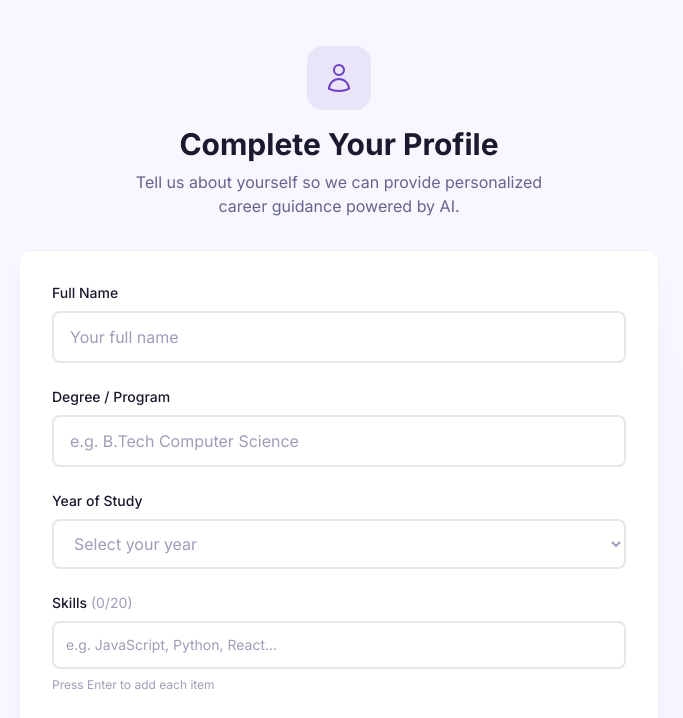
Scenario: ProfileSetup › shows validation errors when submitting empty form
Clear the field labelled "Full Name": (339, 337) 52,311 -> 626,363
(page scrolled)
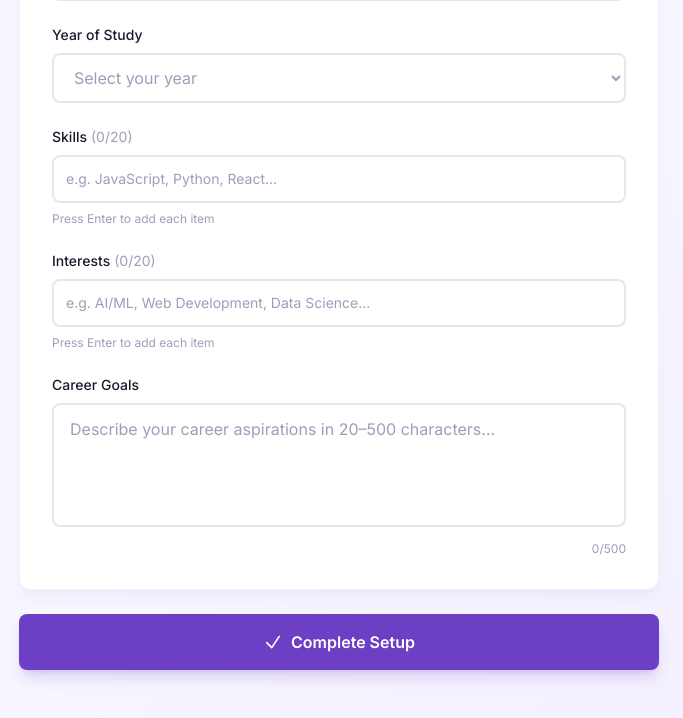
Click the button "Complete Setup": (339, 642) 19,614 -> 659,670
(page scrolled)
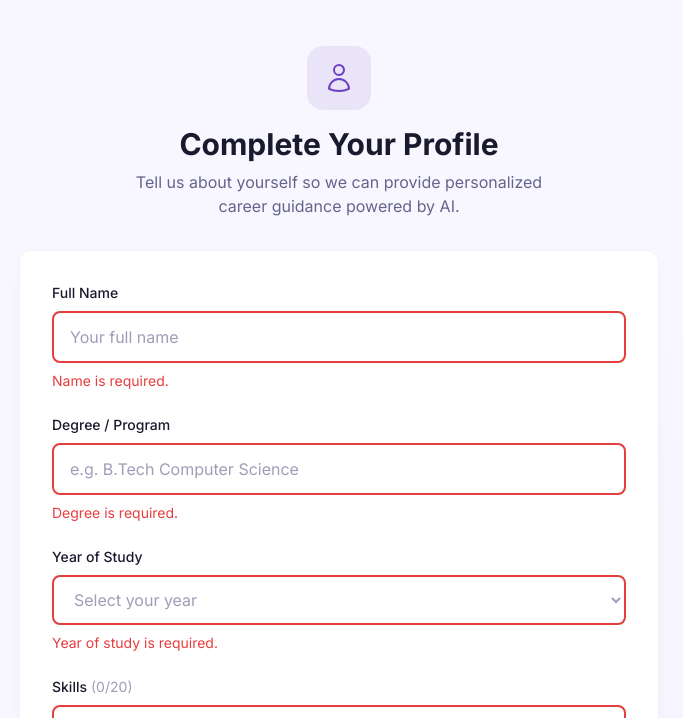
Expected: the message "Name is required." is shown, 52,372 -> 169,389
